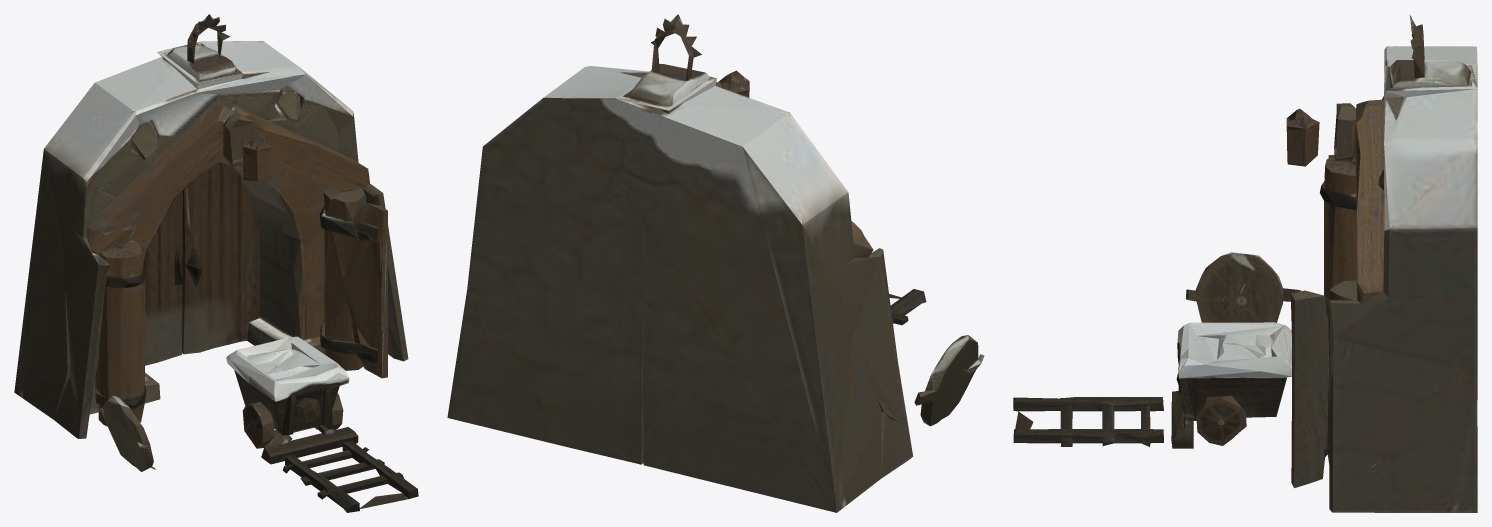
Rendered from mine.glb.
The picture shows the model from 3 angles, left to right: view 1: azimuth 30°, elevation 25°; view 2: azimuth 150°, elevation 25°; view 3: azimuth 270°, elevation 25°; orthographic projection. The views are drawn at different scales.
Bounding box in the file's own units: 1.79 × 1.86 × 1.9.
Materials: 1 (1 with a texture image).
